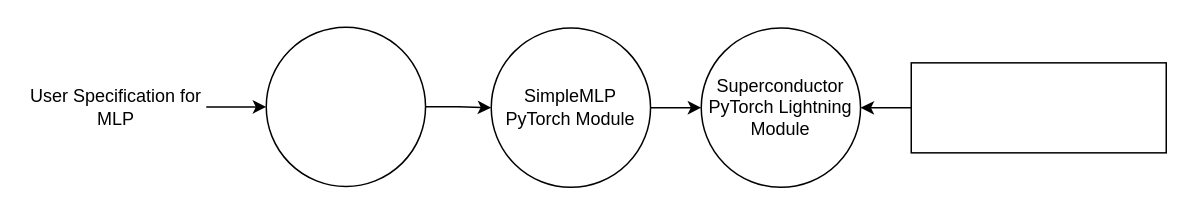
The diagram is 1193 pixels wide and 213 high, and some of its shapes have lost their labels. Here are the shapes that lost their labels. From the top down, the centre of each, then its label:
At point (345, 106): "SimpleMLPConfig dataclass".
At point (1038, 107): "UCI Machine Learning Repository Superconductor Critical Temperature Data".
